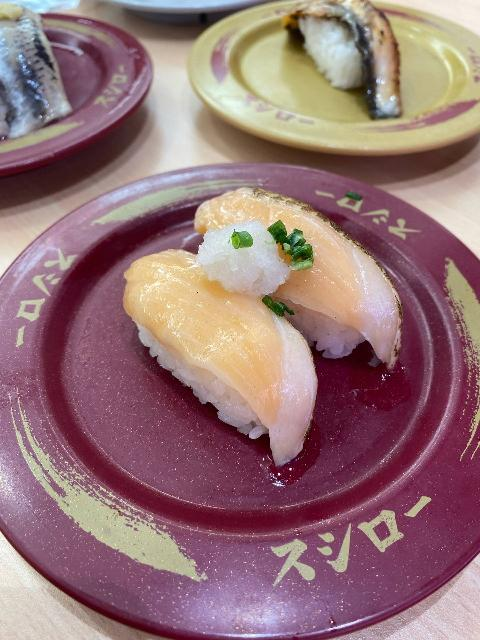jangold: (190, 0, 480, 194)
janred: (34, 199, 457, 631), (0, 0, 178, 180)
janwhite: (106, 0, 260, 22)
